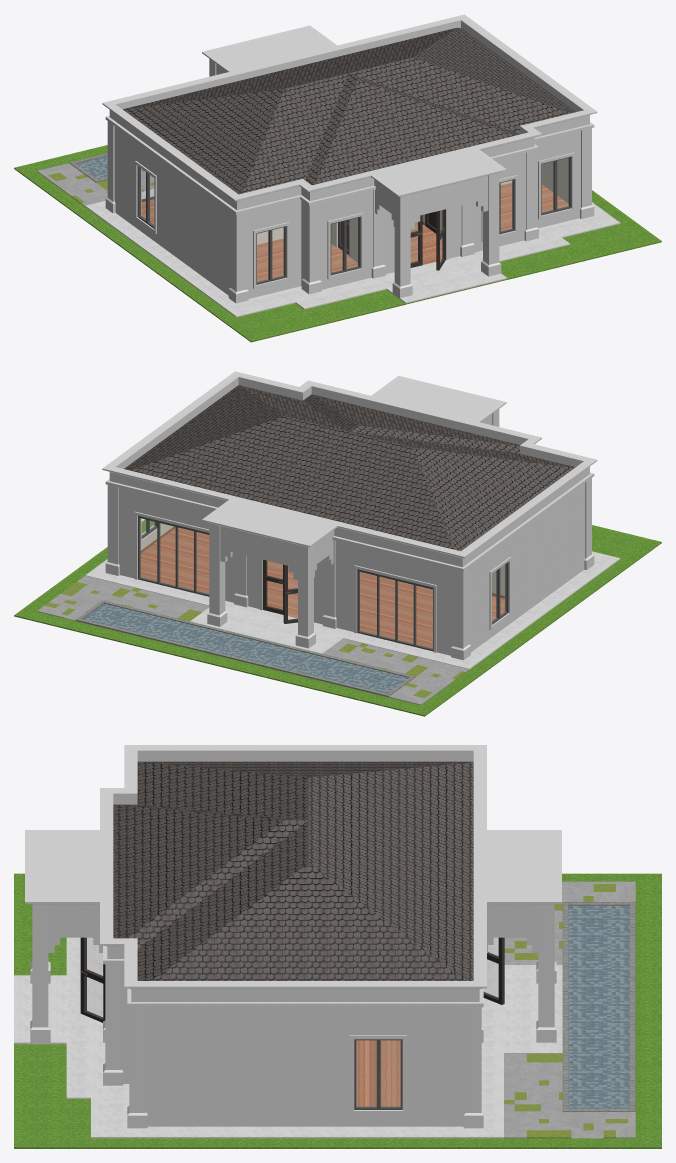
The model's file is English Colonial House.glb.
The picture shows the model from 3 angles, top to bottom: view 1: azimuth 30°, elevation 25°; view 2: azimuth 150°, elevation 25°; view 3: azimuth 270°, elevation 25°; orthographic projection. The views are drawn at different scales.
Visible parts, largest first — view 1: group_18, SketchUp.004, instance_0, group_3, group_33, group_20.001, group_3.011, group_34, instance_15, instance_16, instance_8, instance_2 (+14 smaller); view 2: group_18, SketchUp.004, instance_0, group_3.011, group_3, group_5.001, group_34, group_20.001, group_6.012, group_6.002, group_33, group_15.002 (+14 smaller); view 3: group_18, SketchUp.004, instance_0, group_3, group_5.001, group_20.001, group_33, group_34, group_6.012, group_15.002, group_3.011, group_1.001 (+11 smaller).
Boxes of the visible parts, bbox=[...] form: group_18: bbox=[123, 27, 575, 194]; SketchUp.004: bbox=[109, 17, 589, 298]; instance_0: bbox=[14, 145, 661, 342]; group_3: bbox=[85, 189, 620, 317]; group_33: bbox=[373, 148, 498, 229]; group_20.001: bbox=[102, 14, 597, 201]; group_3.011: bbox=[141, 182, 568, 281]; group_34: bbox=[210, 28, 334, 74]; instance_15: bbox=[392, 194, 412, 297]; instance_16: bbox=[481, 173, 501, 276]; instance_8: bbox=[228, 211, 248, 303]; instance_2: bbox=[301, 202, 321, 294]; group_18: bbox=[124, 385, 575, 551]; SketchUp.004: bbox=[109, 374, 589, 655]; instance_0: bbox=[14, 519, 661, 716]; group_3.011: bbox=[140, 527, 504, 648]; group_3: bbox=[85, 525, 620, 669]; group_5.001: bbox=[83, 603, 408, 693]; group_34: bbox=[209, 499, 334, 579]; group_20.001: bbox=[102, 371, 597, 558]; group_6.012: bbox=[37, 575, 209, 620]; group_6.002: bbox=[323, 638, 468, 704]; group_33: bbox=[373, 379, 498, 425]; group_15.002: bbox=[75, 600, 415, 697]; group_18: bbox=[113, 761, 473, 980]; SketchUp.004: bbox=[107, 748, 479, 1126]; instance_0: bbox=[14, 873, 661, 1148]; group_3: bbox=[14, 937, 562, 1138]; group_5.001: bbox=[569, 905, 629, 1108]; group_20.001: bbox=[25, 745, 561, 988]; group_33: bbox=[32, 833, 107, 952]; group_34: bbox=[479, 833, 554, 952]; group_6.012: bbox=[504, 1053, 635, 1138]; group_15.002: bbox=[562, 902, 635, 1111]; group_3.011: bbox=[356, 1040, 400, 1106]; group_1.001: bbox=[103, 945, 483, 1007].
Size of what is drawn, in the model's own units: 16 by 5.24 by 16.
17 materials, 12 textured.
